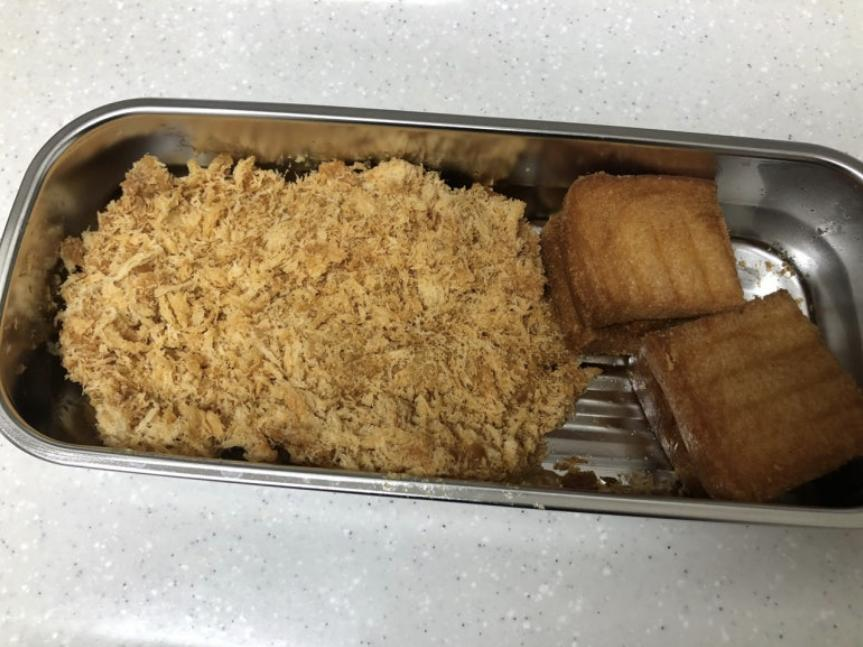Lunch Box: (0, 101, 862, 527)
